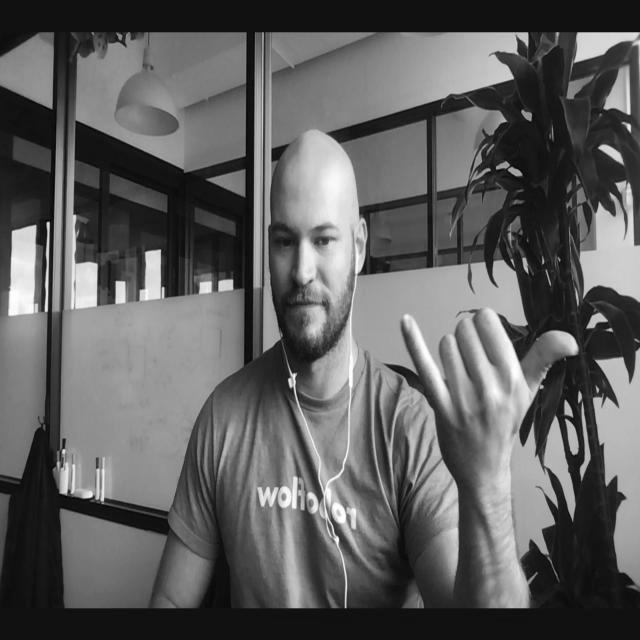real: (269, 156, 356, 364)
